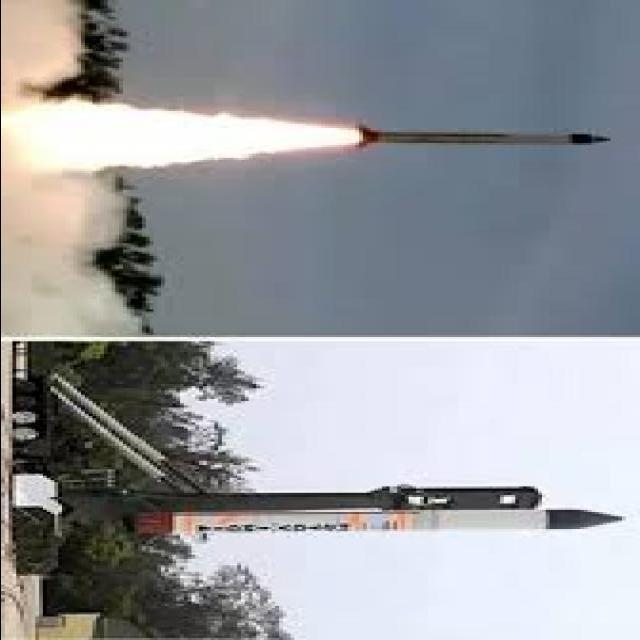missile: (163, 506, 631, 538), (342, 126, 616, 148)
